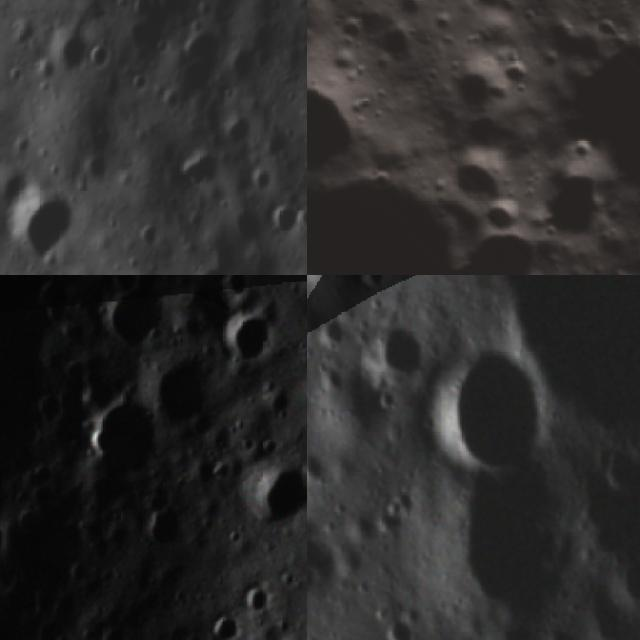crater: (404, 275, 640, 424), (542, 0, 640, 239), (421, 325, 564, 487), (448, 477, 584, 620), (0, 275, 60, 522), (522, 152, 632, 260), (438, 130, 537, 228), (6, 174, 90, 270), (84, 388, 164, 480), (142, 346, 218, 440), (98, 278, 175, 363), (439, 45, 518, 124), (220, 300, 288, 380), (358, 308, 425, 386), (242, 459, 307, 536), (475, 191, 537, 253), (165, 141, 223, 201), (368, 17, 426, 74), (494, 49, 546, 100), (307, 0, 347, 65), (214, 107, 260, 162), (377, 596, 423, 640), (265, 194, 307, 240), (236, 580, 282, 618), (36, 275, 116, 294), (210, 275, 259, 304), (488, 615, 539, 640), (204, 613, 243, 640), (462, 0, 520, 18), (121, 258, 172, 275), (548, 621, 593, 640), (354, 275, 391, 290)
